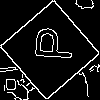P: (25, 25, 74, 62)
